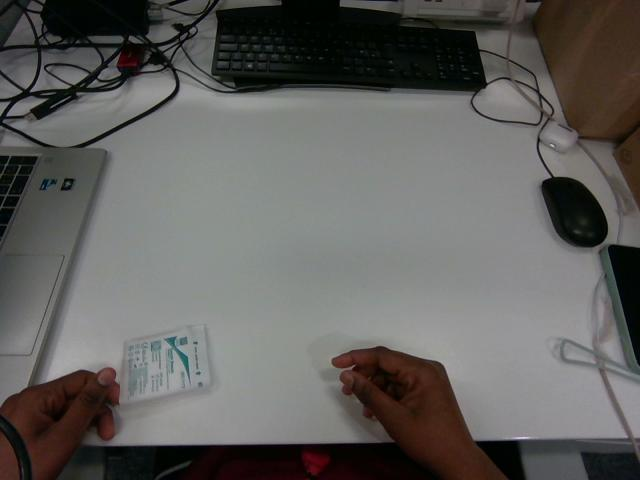gauze: (120, 325, 209, 403)
